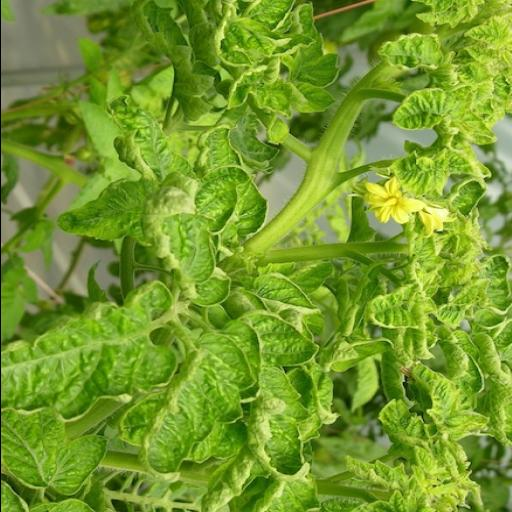disease_tomato: (0, 285, 180, 420), (136, 336, 244, 478), (168, 120, 280, 238), (0, 398, 113, 497), (57, 174, 195, 249), (140, 208, 226, 308), (226, 302, 318, 394), (110, 92, 196, 176), (244, 396, 317, 484), (438, 248, 512, 331), (405, 358, 464, 442), (240, 262, 314, 326), (210, 5, 281, 71), (365, 274, 437, 334), (371, 152, 451, 198), (324, 332, 398, 374), (386, 87, 452, 131), (378, 395, 436, 445), (374, 32, 446, 72), (246, 0, 302, 34), (446, 177, 488, 218), (462, 15, 512, 49), (457, 61, 494, 89)
